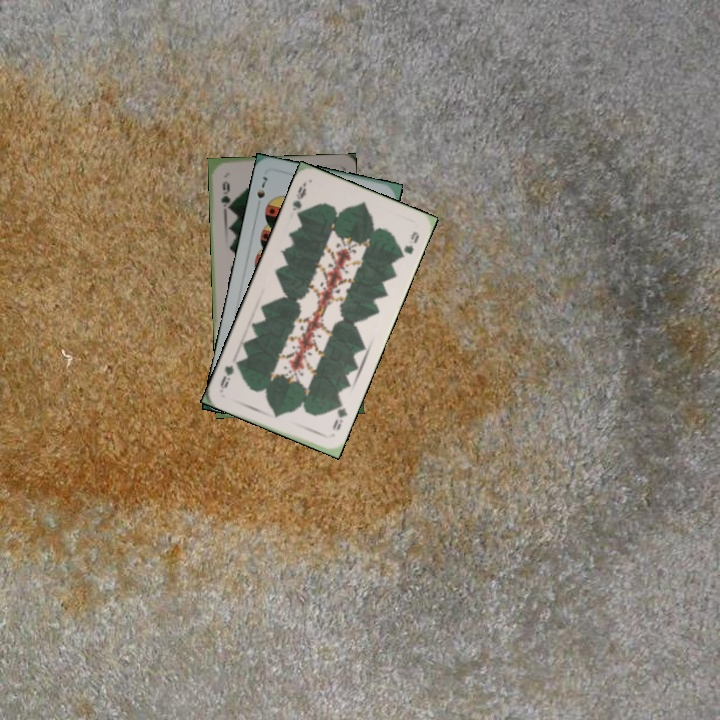G9: (328, 398, 350, 432), (288, 182, 309, 213), (217, 177, 232, 213)
S7: (253, 172, 270, 211)
